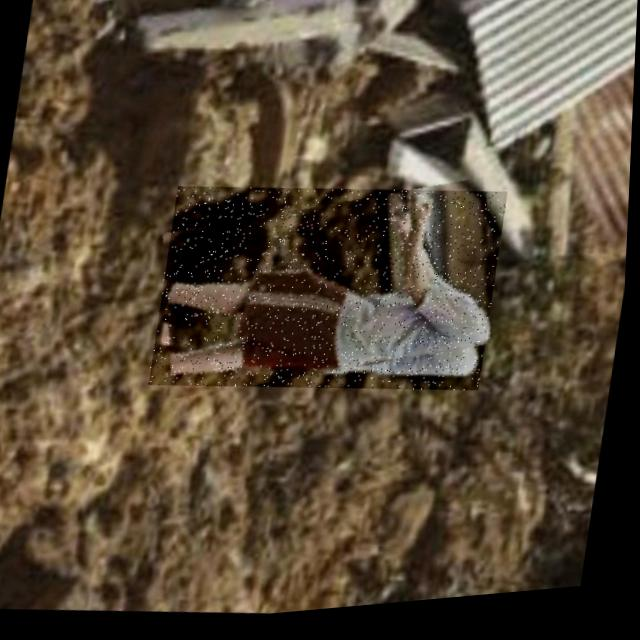Person in Rubble: (148, 166, 509, 423)
